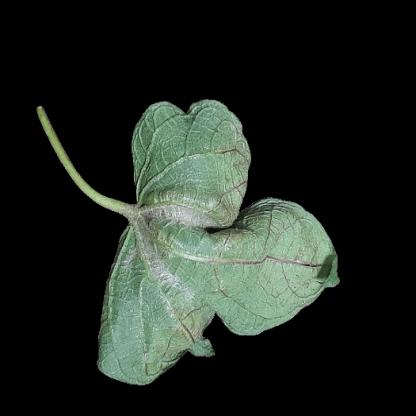curl_stage2: (147, 124, 239, 231), (127, 237, 245, 313), (246, 219, 319, 303), (117, 308, 170, 377), (225, 306, 282, 330)
